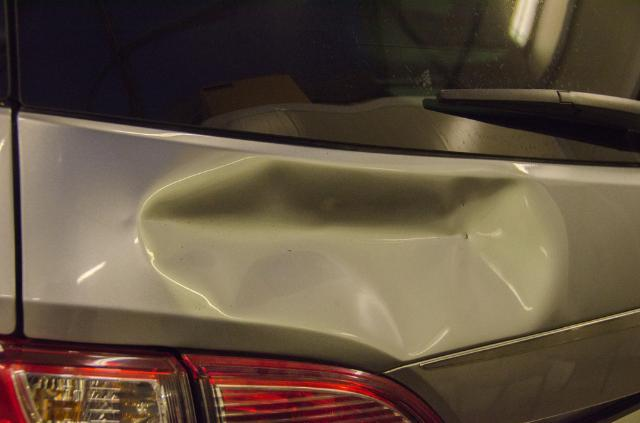dent: (141, 156, 549, 361)
